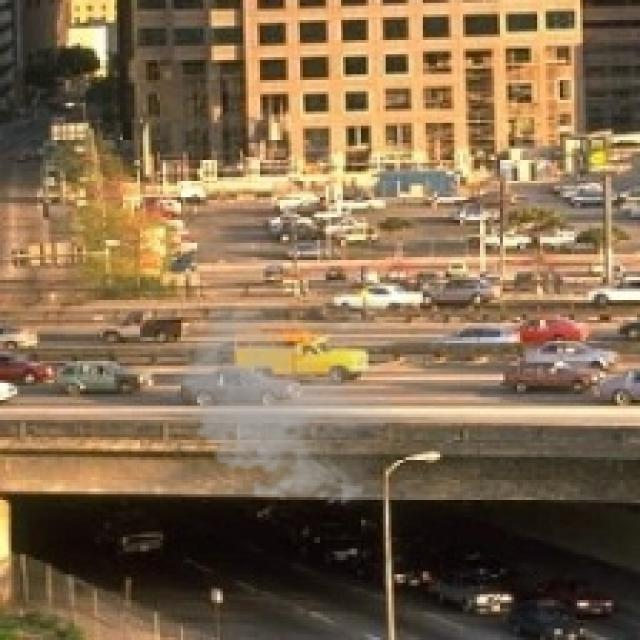Smoke: (166, 299, 391, 512)
